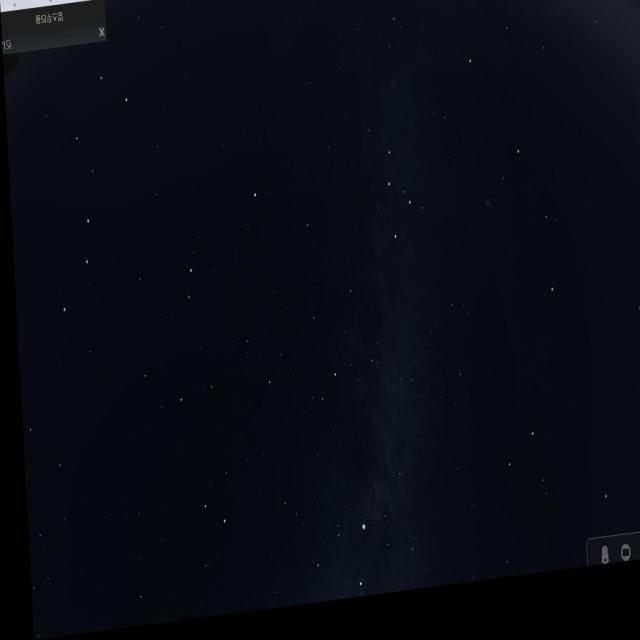cassiopeia: (344, 118, 424, 275)
ursa_major: (47, 67, 140, 335)
